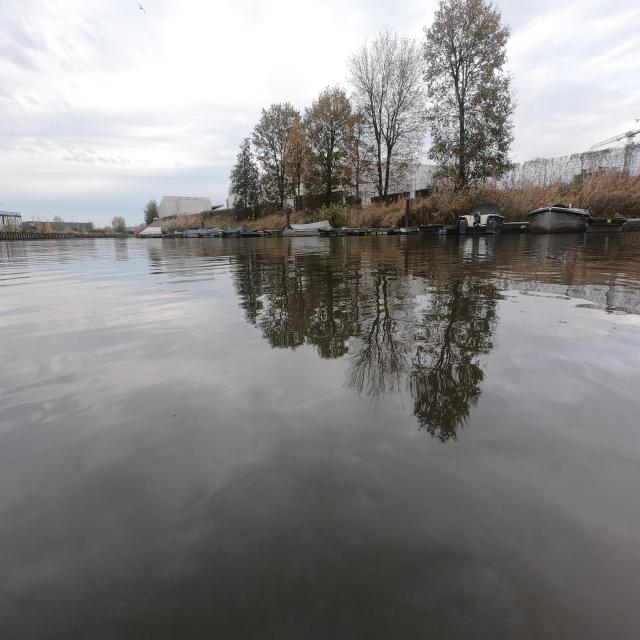boat: (528, 205, 589, 233), (456, 204, 505, 234), (283, 220, 329, 236), (184, 227, 220, 237), (141, 227, 165, 237)
reed: (409, 171, 640, 226), (289, 199, 405, 228), (205, 211, 287, 230)
sky: (2, 1, 433, 221), (501, 2, 639, 154)
tree: (423, 0, 515, 189), (348, 27, 426, 198), (303, 85, 351, 206), (252, 102, 300, 209), (230, 138, 259, 208), (284, 122, 305, 197), (350, 111, 364, 198)
water: (1, 233, 638, 639)
